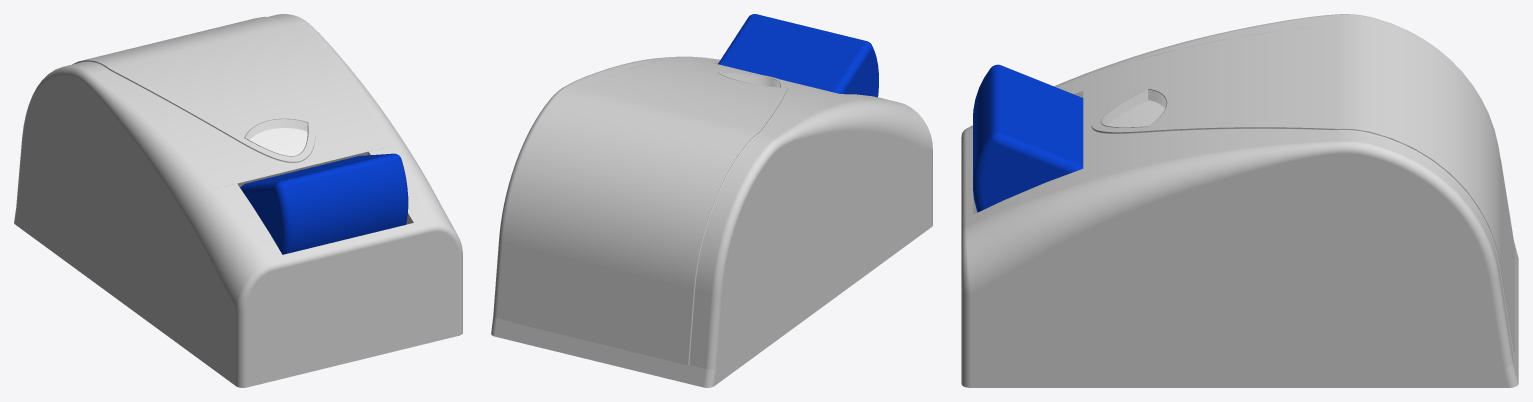
Rendered from Hand Cleaner.fbx.
3 views of the same model, side by side, from view 1: azimuth 30°, elevation 25°; view 2: azimuth 150°, elevation 25°; view 3: azimuth 270°, elevation 25° (orthographic). The views are drawn at different scales.
Visible parts, largest first — view 1: Hand Cleaner; view 2: Hand Cleaner; view 3: Hand Cleaner.
Part boxes in pixels (x1=…): Hand Cleaner: x1=14, y1=14, x2=462, y2=387; Hand Cleaner: x1=491, y1=14, x2=932, y2=387; Hand Cleaner: x1=961, y1=14, x2=1518, y2=387.
Bounding box in the file's own units: 16.5 × 14.07 × 29.
